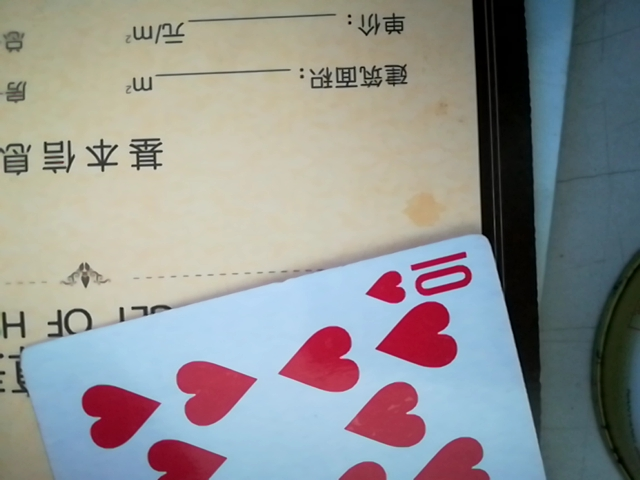hx 10: (19, 237, 557, 477)
